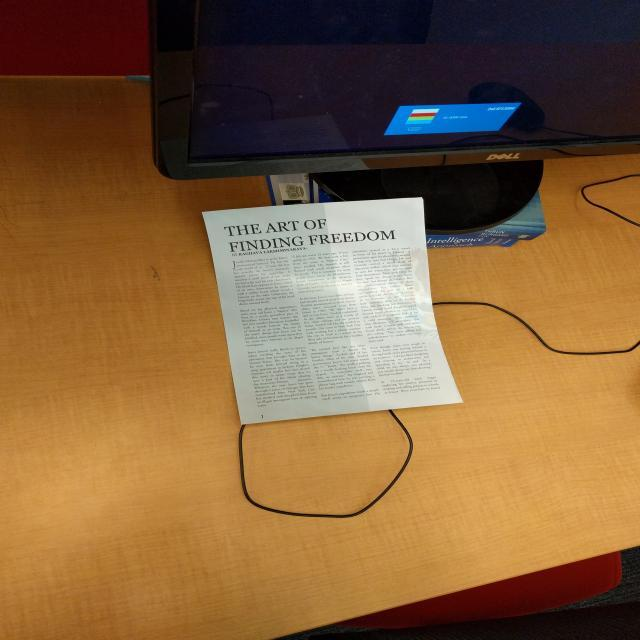document: (203, 198, 462, 424)
